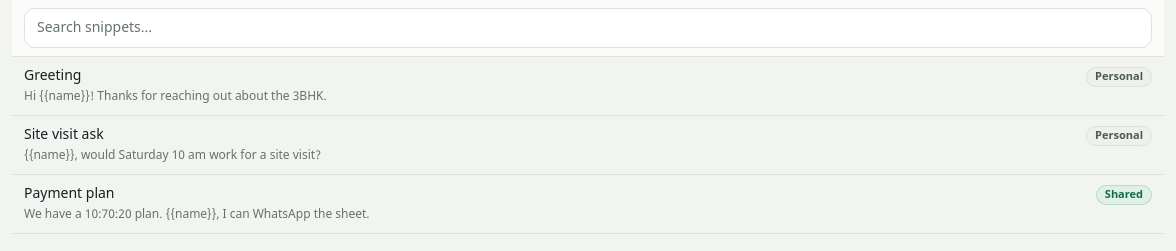
Scenario: SnippetPicker › filters by title and body
Type "visit" into the search field labelled "Search snippets" at x=588, y=28, box [24,8,1152,48]
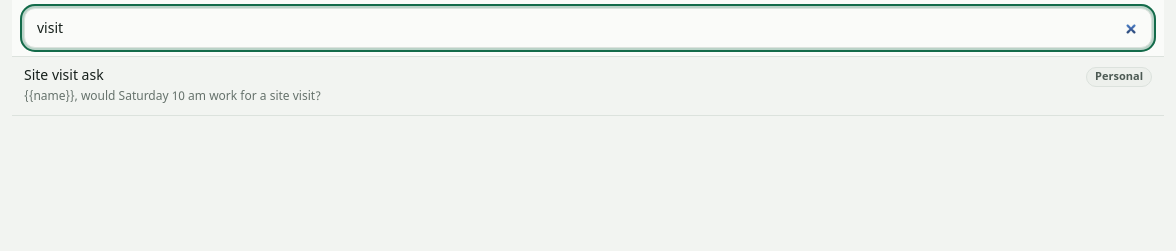
Expected: the text "Site visit ask" is shown, [24,67,104,87]
Expected: the button "Greeting" is gone
